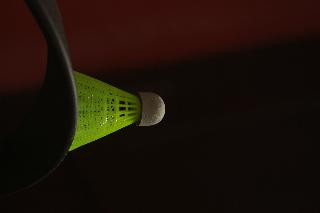shuttlecock: (72, 70, 164, 149)
